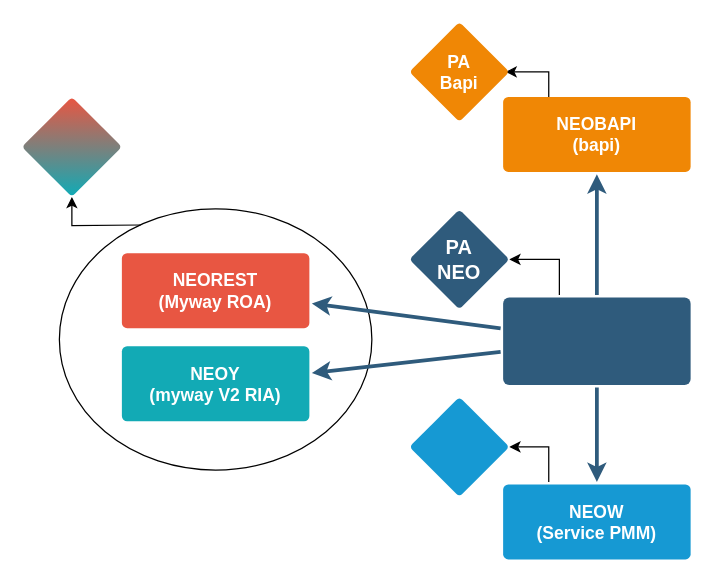
Some shapes in this 711 by 580 pixel diagram are drawn without their labels. Here are the shapes that lost their labels. From the top down, the centre of each, then its label:
pixel 71 146: PA Myway
pixel 596 340: Produit : M40 Application : NEO CIA : CENEO
pixel 459 446: PA PMM
